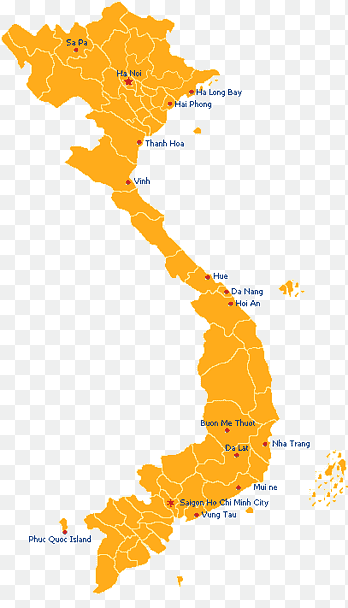Island: (311, 446, 345, 509), (273, 267, 307, 303)
